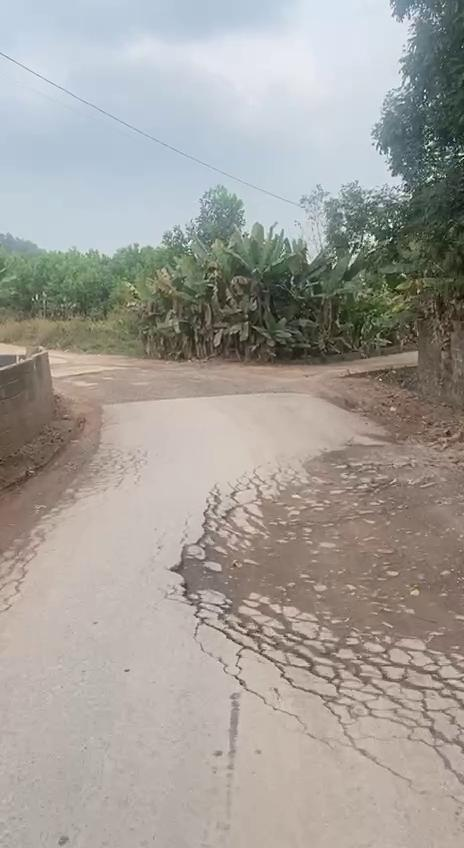pothole: (182, 439, 464, 720)
